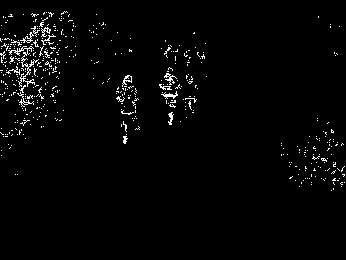person: (116, 74, 140, 146), (160, 66, 182, 125), (184, 73, 200, 117)
